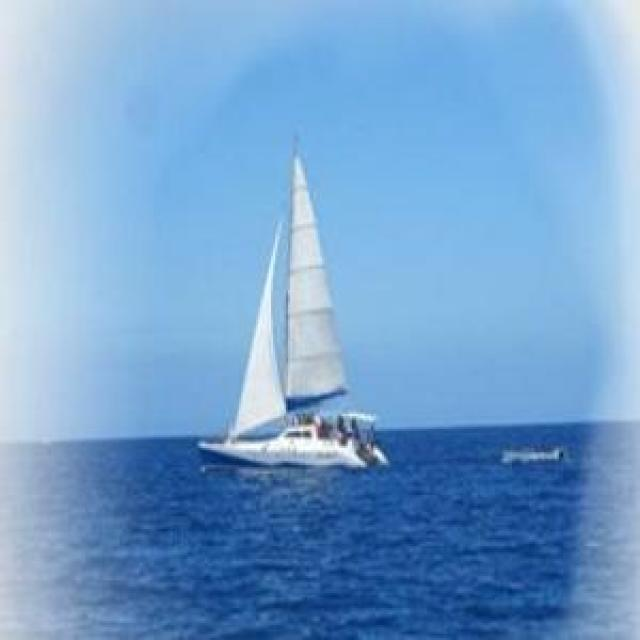sailboat: (199, 143, 398, 471)
